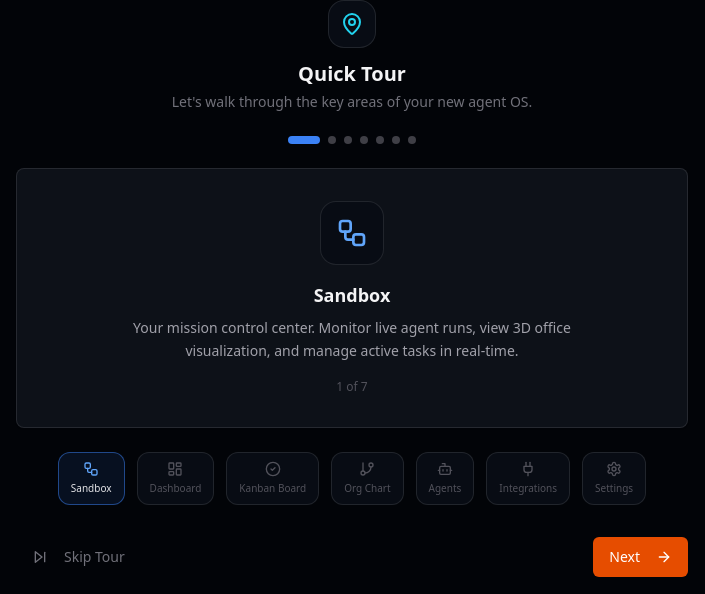
Test case: FeatureTour › shows Finish Tour button on last stop
Click the button "Next" at (641, 556), box [593,536,688,576]
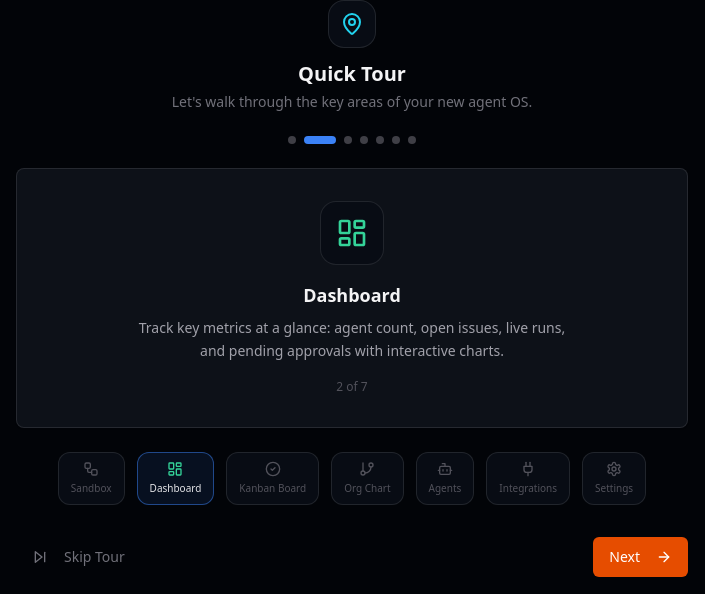
Click the button "Next" at (641, 556), box [593,536,688,576]
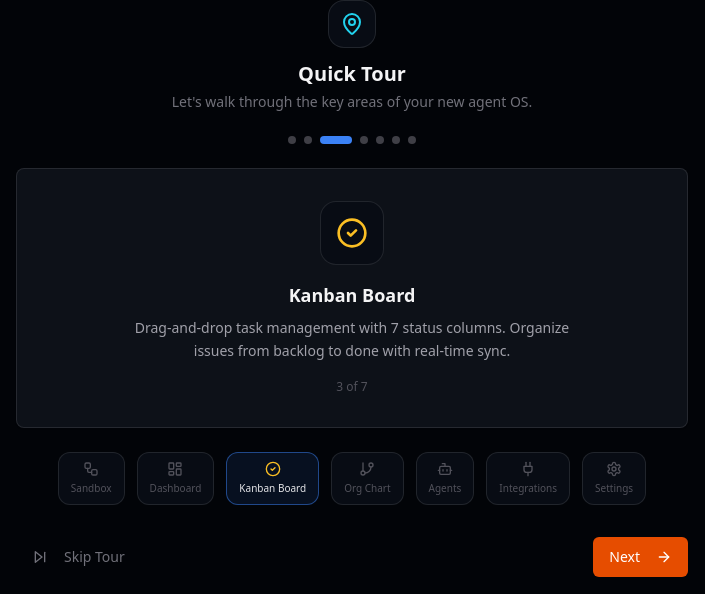
Click the button "Next" at (641, 556), box [593,536,688,576]
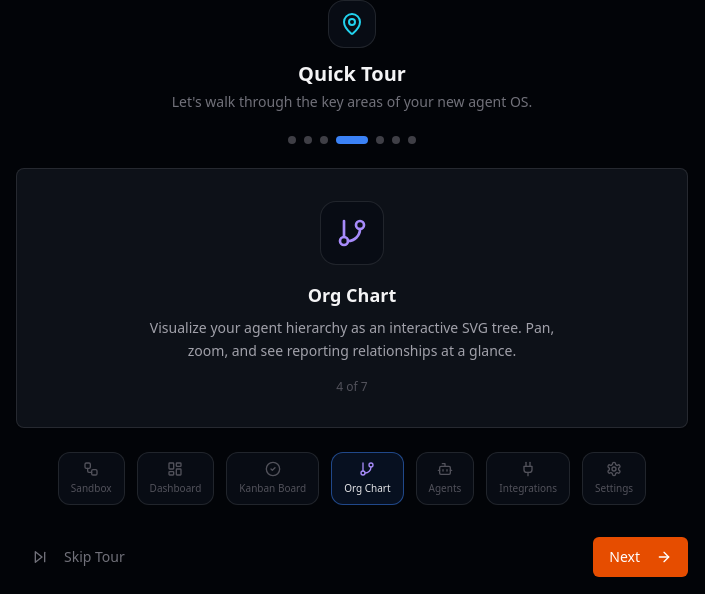
Click the button "Next" at (641, 556), box [593,536,688,576]
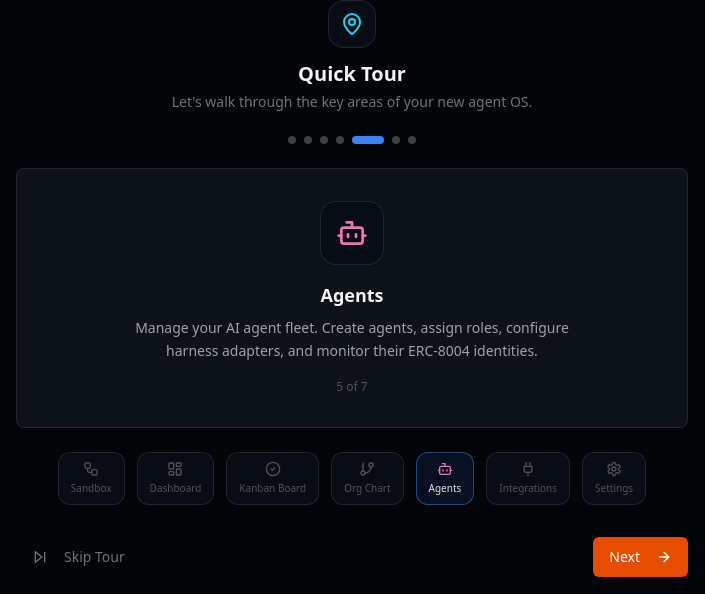
Click the button "Next" at (641, 556), box [593,536,688,576]
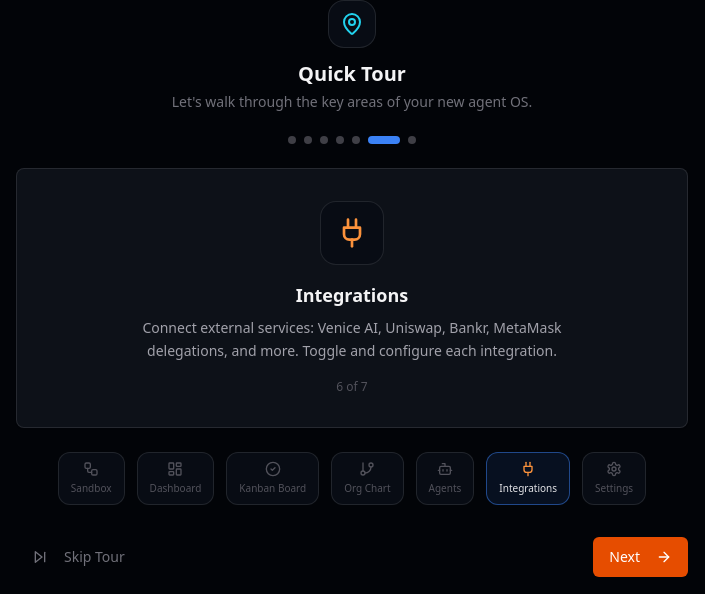
Click the button "Next" at (641, 556), box [593,536,688,576]
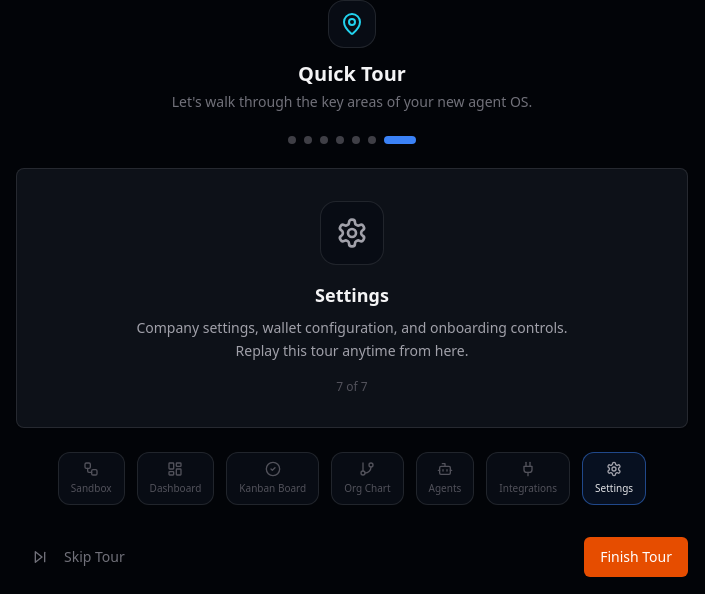
Expected: the text "7 of 7" is shown, [336,378,368,394]
Expected: the button "Finish Tour" is shown, [584,536,688,576]
